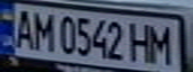0: (54, 12, 78, 55)
2: (106, 18, 127, 62)
4: (90, 16, 109, 60)
5: (72, 15, 93, 56)
A: (9, 6, 36, 49)
H: (127, 19, 157, 64)
M: (145, 21, 178, 65), (30, 8, 57, 52)
